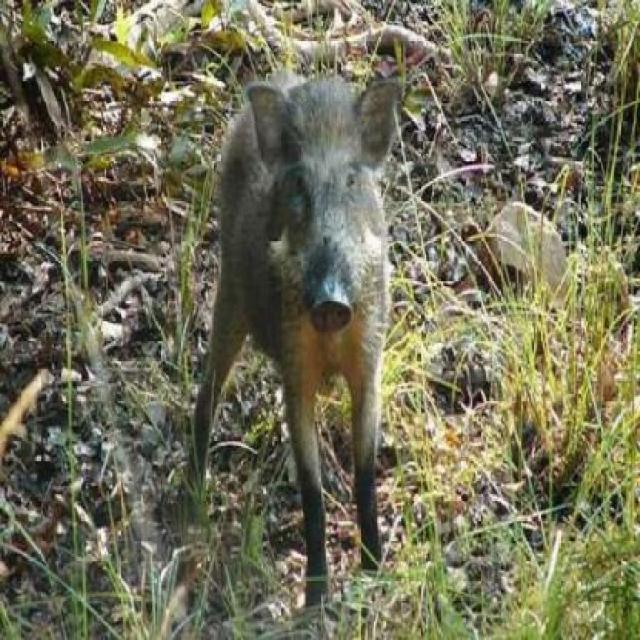pig: (170, 64, 428, 544)
